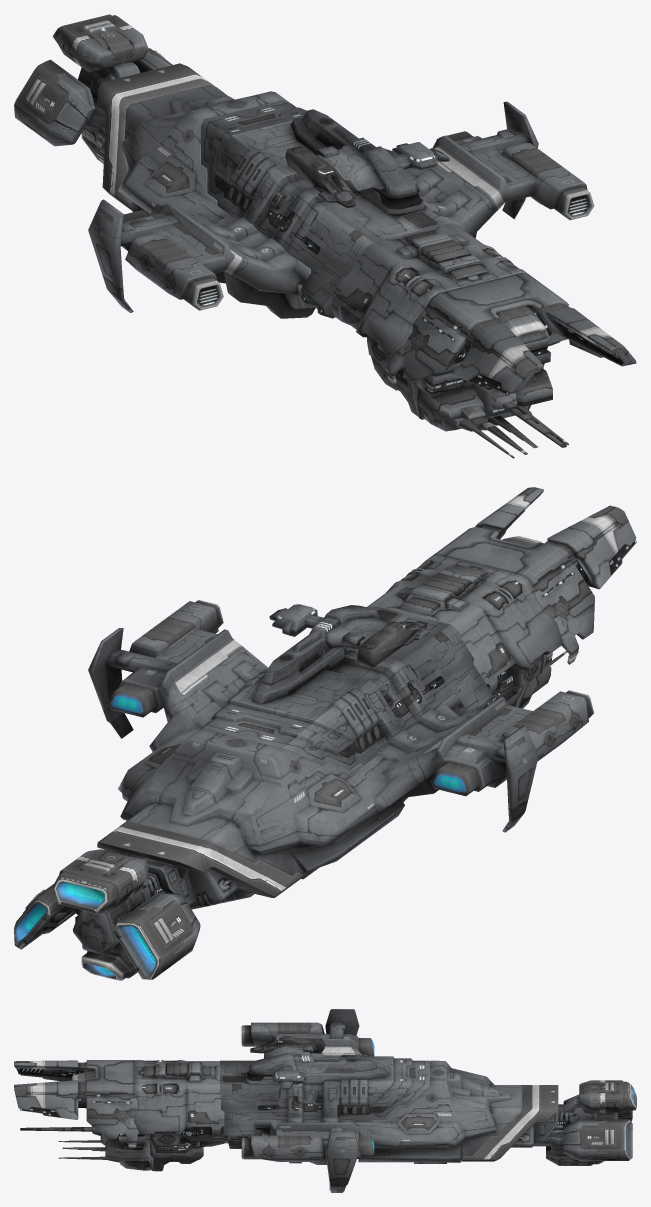
The model's file is 29984_Tengu2123_lite.glb.
3 renders of one model, top to bottom at view 1: azimuth 30°, elevation 25°; view 2: azimuth 150°, elevation 25°; view 3: azimuth 270°, elevation 25°, orthographic. The views are drawn at different scales.
Visible parts, largest first — view 1: csc1_t3_s3v2, csc1_t3_s1v2, csc1_t3_s2v1, csc1_t3_s4v3; view 2: csc1_t3_s3v2, csc1_t3_s2v1, csc1_t3_s1v2, csc1_t3_s4v3; view 3: csc1_t3_s3v2, csc1_t3_s1v2, csc1_t3_s2v1, csc1_t3_s4v3.
Part boxes in pixels (left/top/right/bottom): csc1_t3_s3v2: left=88, top=85, right=594, bottom=318; csc1_t3_s1v2: left=330, top=223, right=636, bottom=458; csc1_t3_s2v1: left=200, top=100, right=456, bottom=318; csc1_t3_s4v3: left=14, top=14, right=215, bottom=210; csc1_t3_s3v2: left=88, top=600, right=593, bottom=879; csc1_t3_s2v1: left=200, top=604, right=491, bottom=769; csc1_t3_s1v2: left=367, top=487, right=636, bottom=708; csc1_t3_s4v3: left=14, top=821, right=303, bottom=980; csc1_t3_s3v2: left=241, top=1009, right=522, bottom=1192; csc1_t3_s1v2: left=14, top=1060, right=224, bottom=1171; csc1_t3_s2v1: left=220, top=1036, right=430, bottom=1148; csc1_t3_s4v3: left=461, top=1080, right=636, bottom=1165.
Size of the model in its own units: 2.01 by 0.8275 by 4.08.
Materials: 6 (6 with a texture image).
